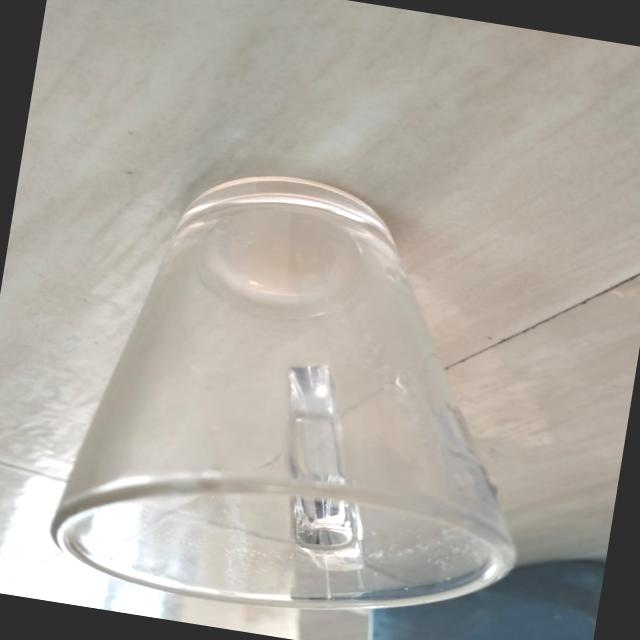glass-VX4N: (41, 143, 574, 640)
